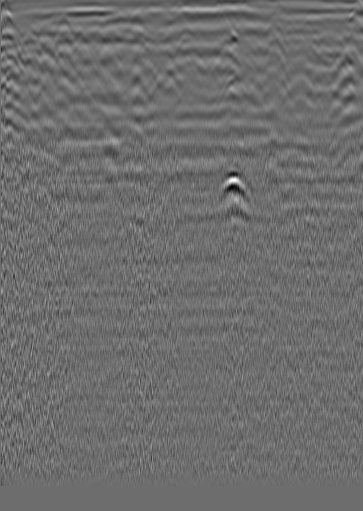가스: (213, 167, 256, 204)
상수: (328, 33, 362, 68)
오수: (16, 23, 50, 53)
우수: (173, 27, 204, 62)
